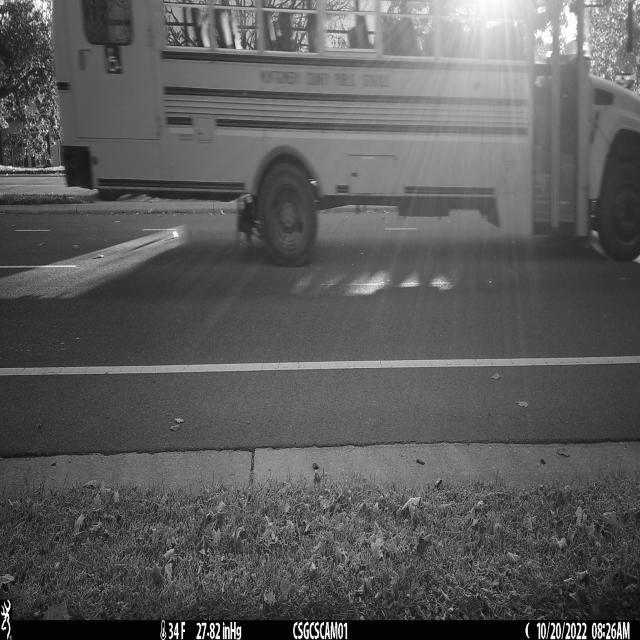Bus: (50, 0, 640, 267)
